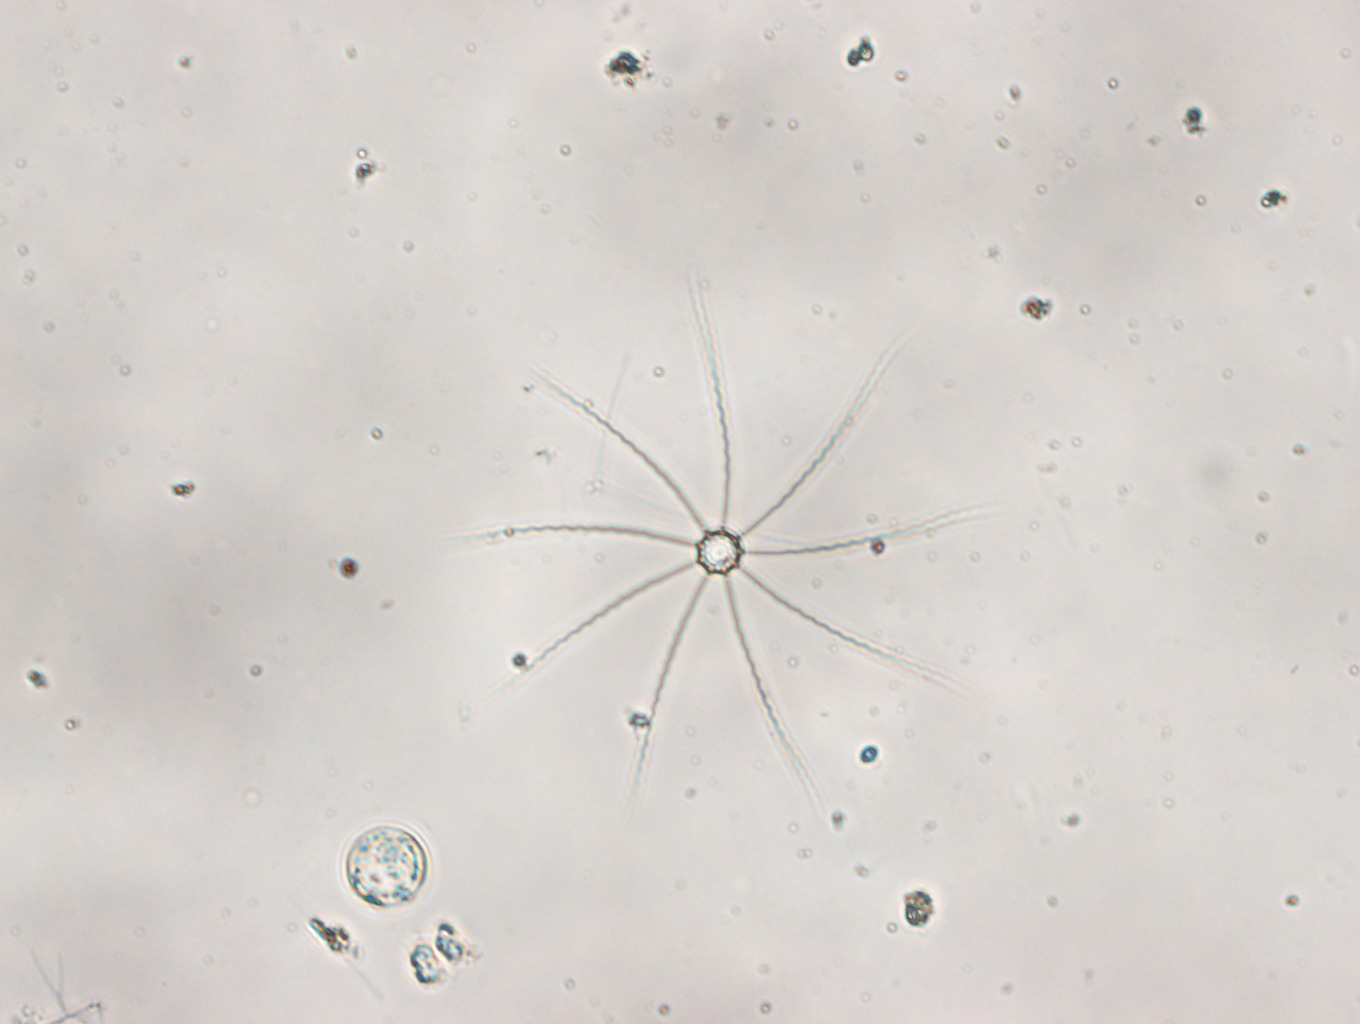bacteriastrum: (482, 276, 982, 782)
